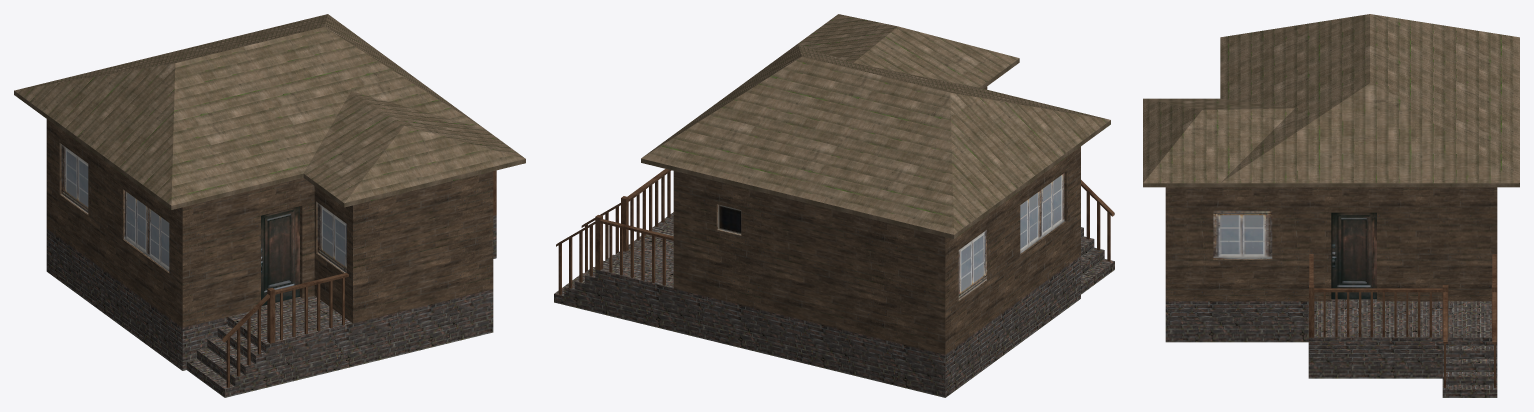
File: house5_tex2.glb
3 views of the same model, side by side, from view 1: azimuth 30°, elevation 25°; view 2: azimuth 150°, elevation 25°; view 3: azimuth 270°, elevation 25° (orthographic). The views are drawn at different scales.
Parts seen in each view (by area): view 1: house5, house5_windows, house5_door1; view 2: house5, house5_windows; view 3: house5, house5_door2, house5_windows.
Part boxes in pixels (box(x1,y1,x2,y2)): house5: box(14, 14, 525, 397); house5_windows: box(59, 143, 346, 273); house5_door1: box(261, 206, 299, 305); house5: box(554, 14, 1114, 397); house5_windows: box(716, 171, 1066, 301); house5: box(1143, 14, 1519, 397); house5_door2: box(1331, 212, 1376, 299); house5_windows: box(1213, 210, 1272, 259).
Bounding box in the file's own units: 10 × 5.6 × 8.3.
1 material, 1 textured.
